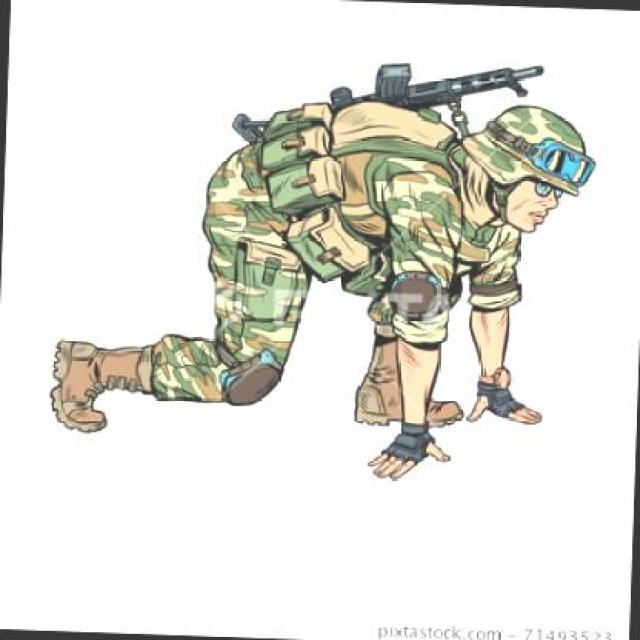MIL_Pax: (50, 82, 595, 484)
